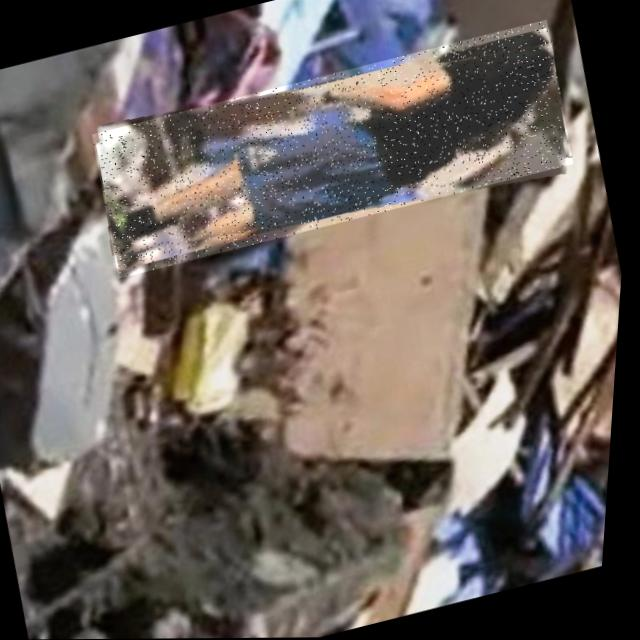Person in Rubble: (85, 20, 582, 279)
